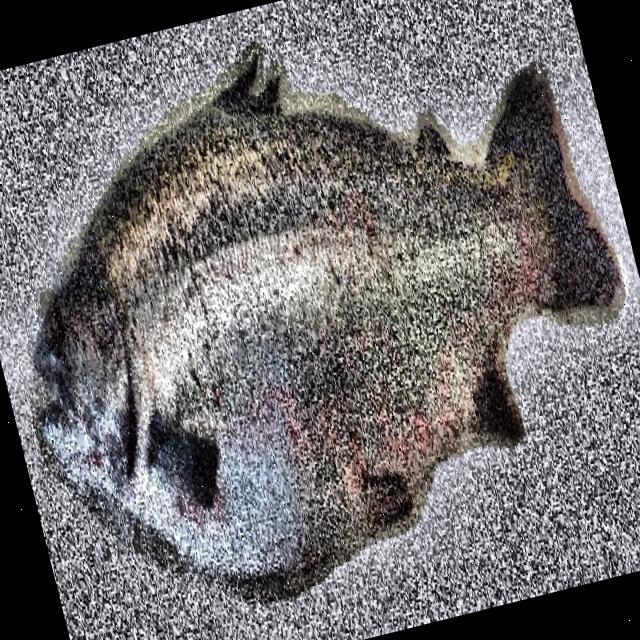mild_red: (89, 59, 550, 586)
